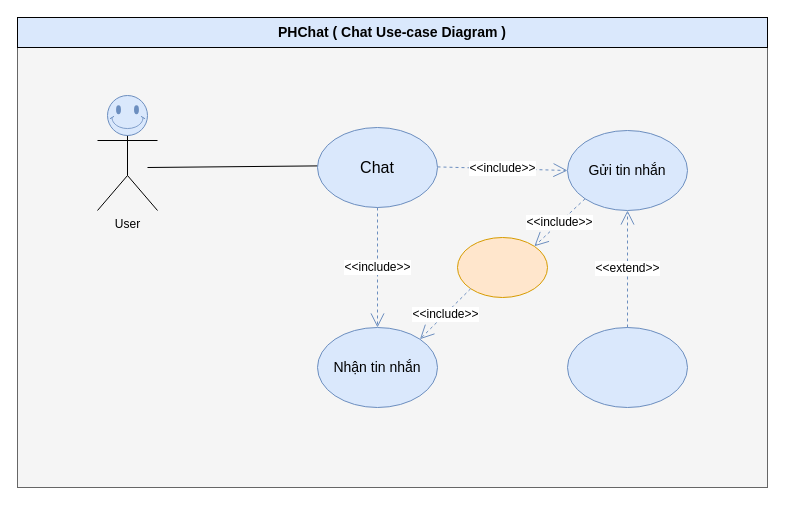
Image size: 785x505. Some labels were removed from this diagram. The box of each missing label's shape, as (x1, y1, x2, y2) in pixels:
Firebase: (456, 236, 548, 298)
Nhận thông báo tin nhắn: (566, 326, 688, 408)
